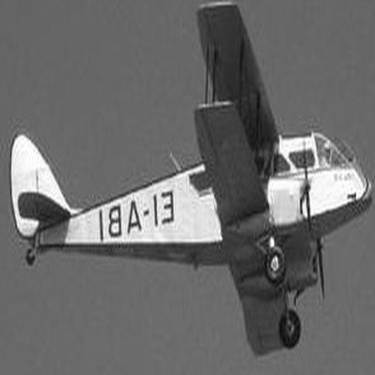airplane: (6, 2, 372, 368)
